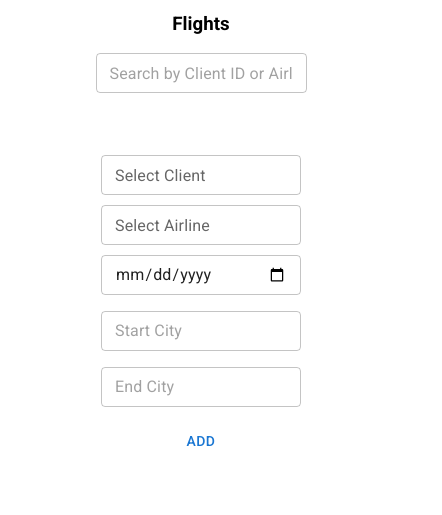
Test: Flights Component › fetches and displays flights
Type "101" into the field with placeholder "Search by Client ID or Airline ID".
click(201, 73); type("101")  # box [96, 53, 306, 93]
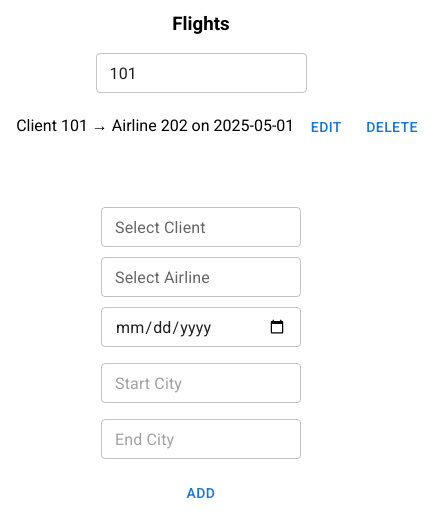
Now the list item "Client 101 → Airline 202 on 2025-05-01" is shown, box [16, 109, 426, 146]
